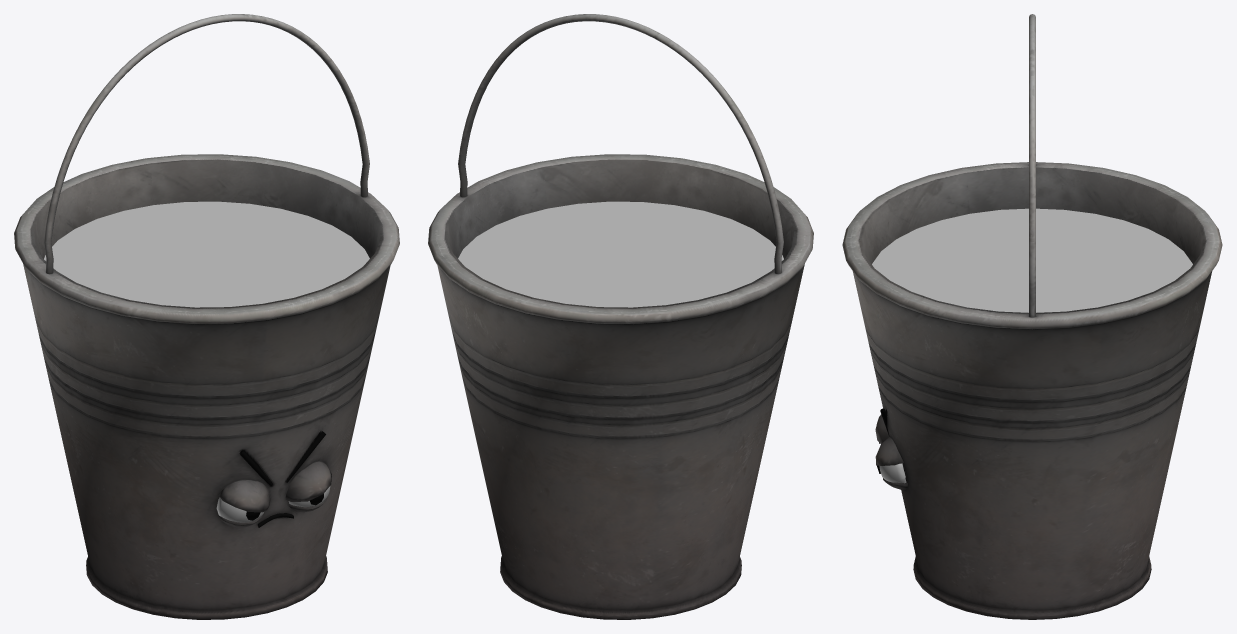
File: CHAR_Bucket.fbx
3 renders of one model, left to right at view 1: azimuth 30°, elevation 25°; view 2: azimuth 150°, elevation 25°; view 3: azimuth 270°, elevation 25°, orthographic.
Visible parts, largest first — view 1: CHAR_Bucket; view 2: CHAR_Bucket; view 3: CHAR_Bucket.
Part boxes in pixels (x1,y1,x2,y2): CHAR_Bucket: (14,14,399,619); CHAR_Bucket: (428,14,813,619); CHAR_Bucket: (842,14,1222,619).
Size of the model in its own units: 2.09 by 3.3 by 2.09.
Materials: 1 (1 with a texture image).
